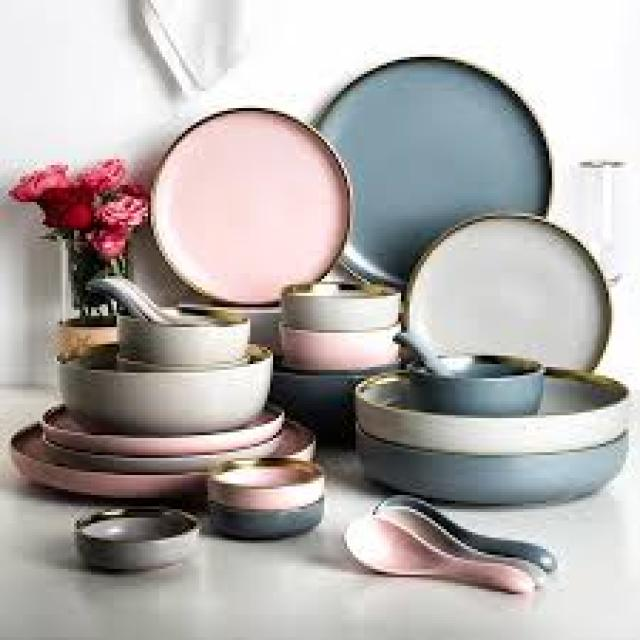Plate: (139, 94, 354, 315), (335, 50, 571, 222), (399, 215, 617, 370)
